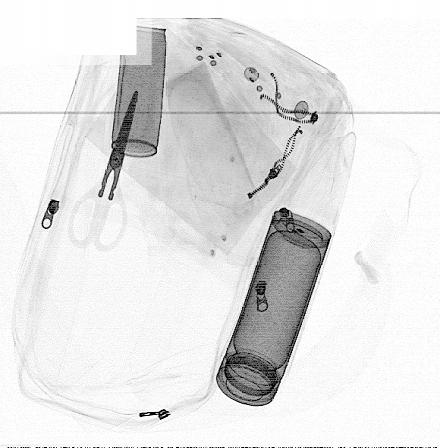Scissors: (67, 88, 139, 255)
